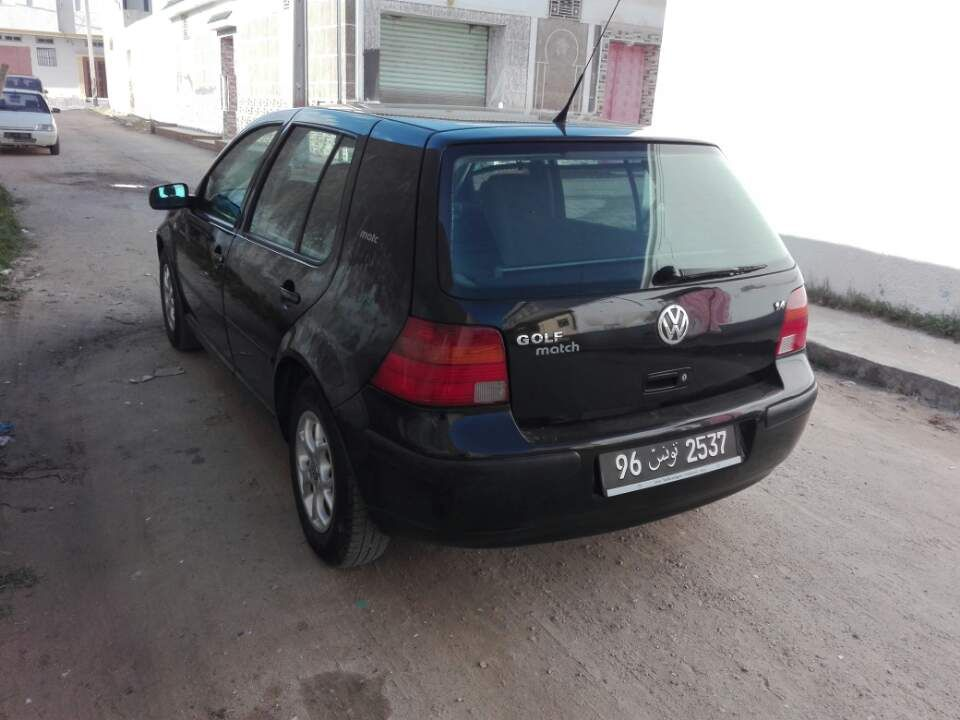LP: (596, 419, 745, 494)
